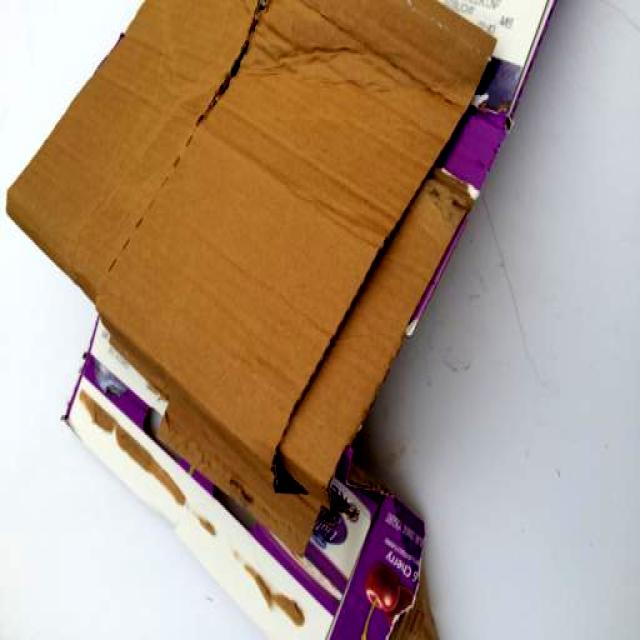cardboard: (2, 0, 604, 640)
